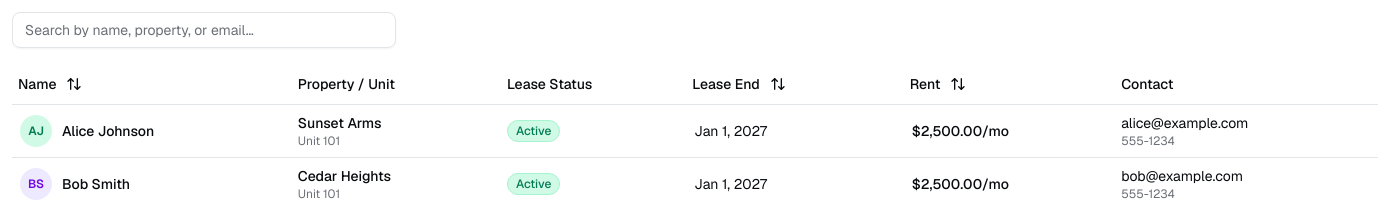
Scenario: TenantsTable › filters tenants by email
The width and height of the screenshot is (1378, 217).
Type "bob@" into the field with placeholder "Search by name, property, or email…" at (204,30), box [12,12,396,48]
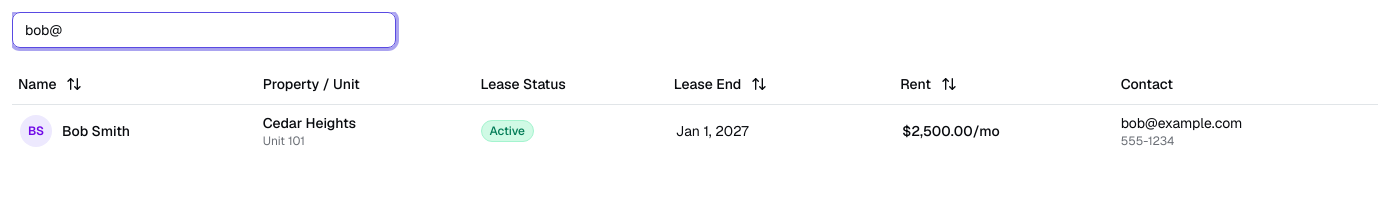
Expected: the text "Bob Smith" is shown, [62,120,130,140]
Expected: the text "Alice Johnson" is gone
